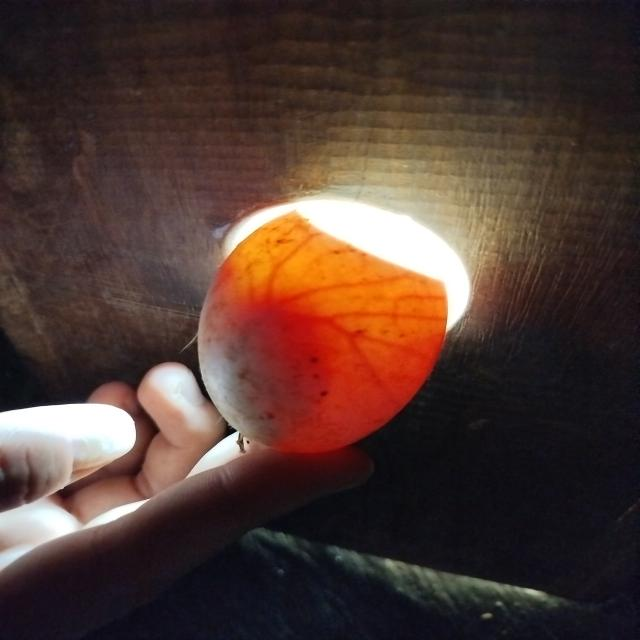Embriao: (197, 289, 290, 444)
